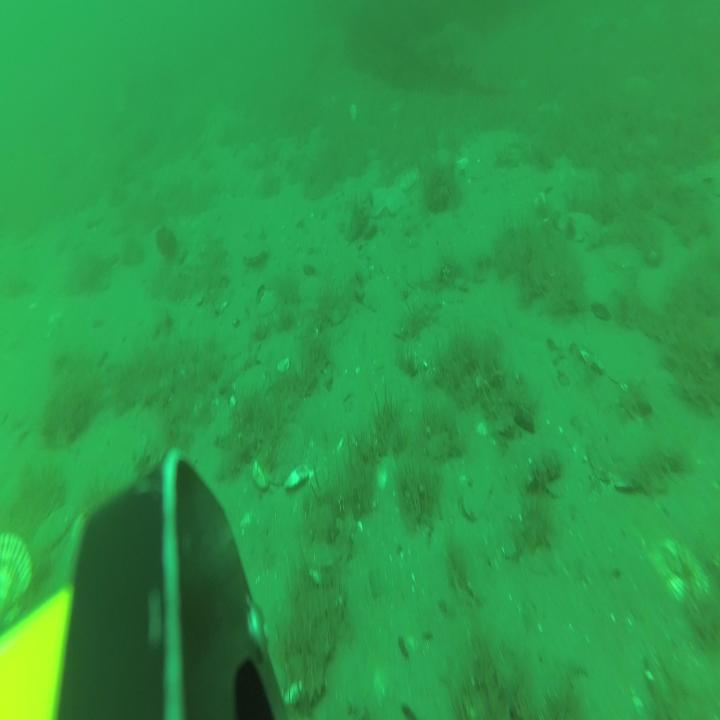scallop: (250, 417, 306, 490), (2, 534, 33, 623), (232, 360, 273, 408), (558, 210, 594, 241), (241, 229, 269, 266), (401, 166, 419, 192), (347, 102, 357, 123)
starfish: (368, 182, 412, 218)
